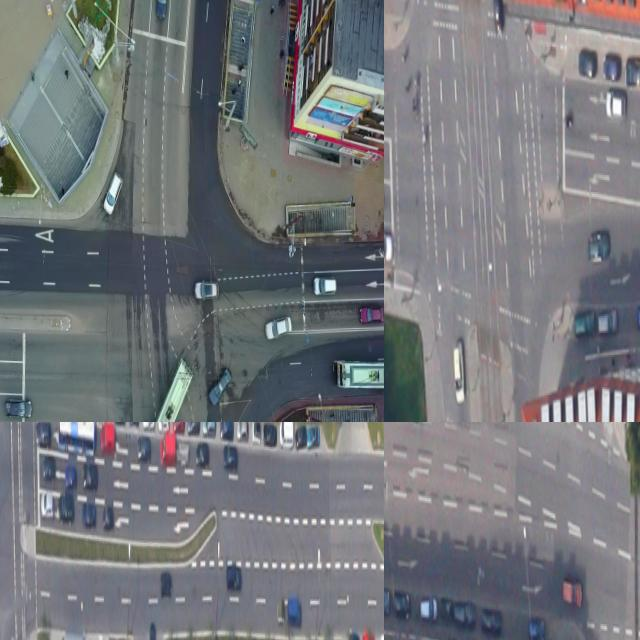UAI: (102, 170, 124, 215), (208, 368, 233, 406), (452, 341, 464, 406), (264, 315, 293, 340), (588, 231, 610, 262), (481, 606, 502, 637), (574, 309, 596, 338), (578, 47, 598, 78), (604, 90, 625, 119), (562, 578, 583, 607), (3, 399, 32, 419), (193, 279, 219, 301), (454, 601, 475, 628), (58, 491, 74, 525), (393, 590, 410, 621), (99, 422, 114, 455), (161, 433, 176, 466), (358, 304, 384, 323), (598, 309, 617, 335), (491, 0, 505, 34), (419, 596, 437, 622), (603, 53, 620, 80), (313, 276, 337, 295), (82, 461, 97, 490), (528, 615, 545, 640), (439, 595, 453, 624), (625, 57, 640, 84), (226, 565, 241, 592), (35, 422, 50, 448), (42, 453, 55, 483), (278, 422, 293, 448), (287, 598, 301, 625), (82, 502, 96, 529), (137, 435, 151, 462), (223, 444, 237, 471), (40, 491, 53, 518), (196, 442, 209, 468), (262, 422, 276, 446), (102, 504, 114, 531), (307, 424, 320, 448), (154, 0, 169, 20), (65, 463, 76, 489), (160, 571, 171, 597), (178, 441, 188, 467), (296, 424, 306, 450), (219, 422, 232, 440), (384, 234, 392, 261), (236, 422, 247, 440), (202, 422, 215, 437), (277, 600, 285, 623), (384, 585, 390, 614), (186, 422, 199, 435), (251, 422, 259, 443), (147, 620, 155, 640), (173, 422, 184, 433), (348, 631, 359, 640), (361, 632, 373, 640), (141, 422, 153, 429), (157, 422, 167, 430)
car: (142, 357, 196, 422), (335, 358, 384, 391), (57, 422, 94, 455)
